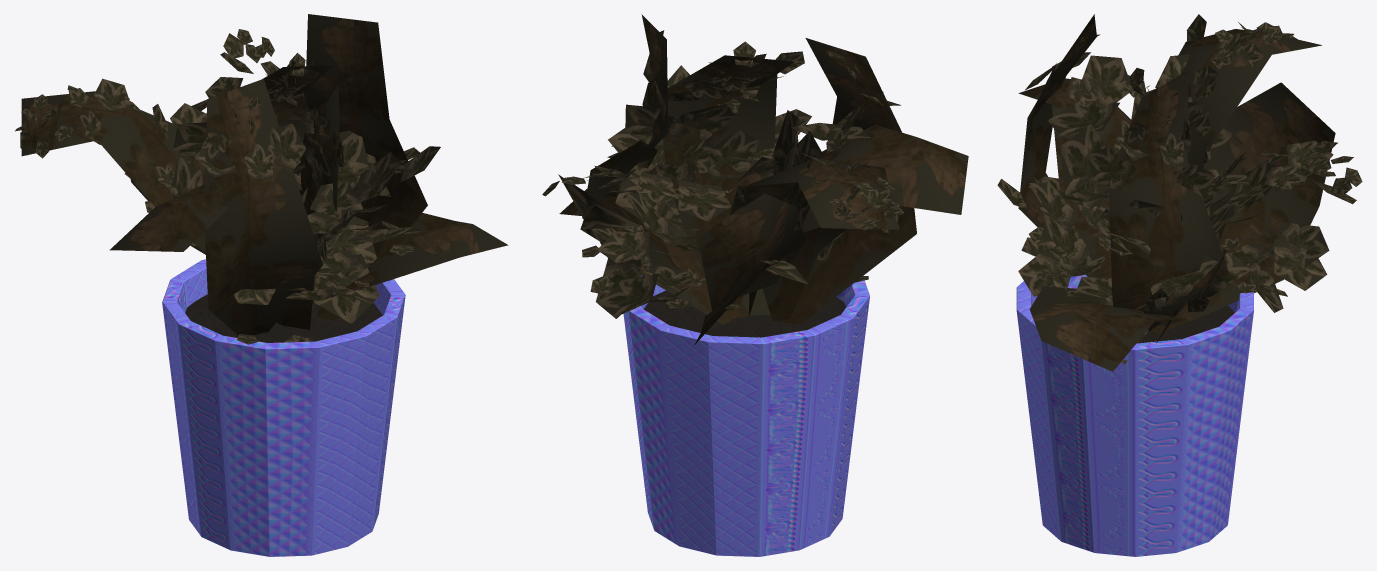
The model's file is SM_PlantG.fbx.
3 renders of one model, left to right at view 1: azimuth 30°, elevation 25°; view 2: azimuth 150°, elevation 25°; view 3: azimuth 270°, elevation 25°, orthographic. The views are drawn at different scales.
Parts seen in each view (by area): view 1: SM_PlantG; view 2: SM_PlantG; view 3: SM_PlantG.
Part boxes in pixels (x1=…): SM_PlantG: x1=15, y1=14, x2=508, y2=556; SM_PlantG: x1=542, y1=14, x2=968, y2=556; SM_PlantG: x1=997, y1=14, x2=1362, y2=556.
Bounding box in the file's own units: 48.64 × 54.98 × 38.63.
2 materials, 2 textured.
